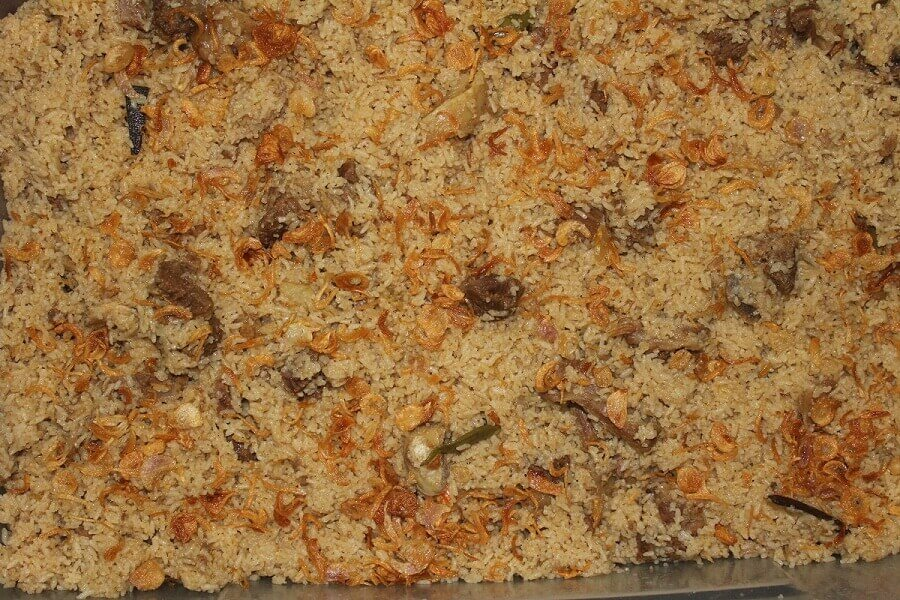rice: (13, 9, 882, 558)
